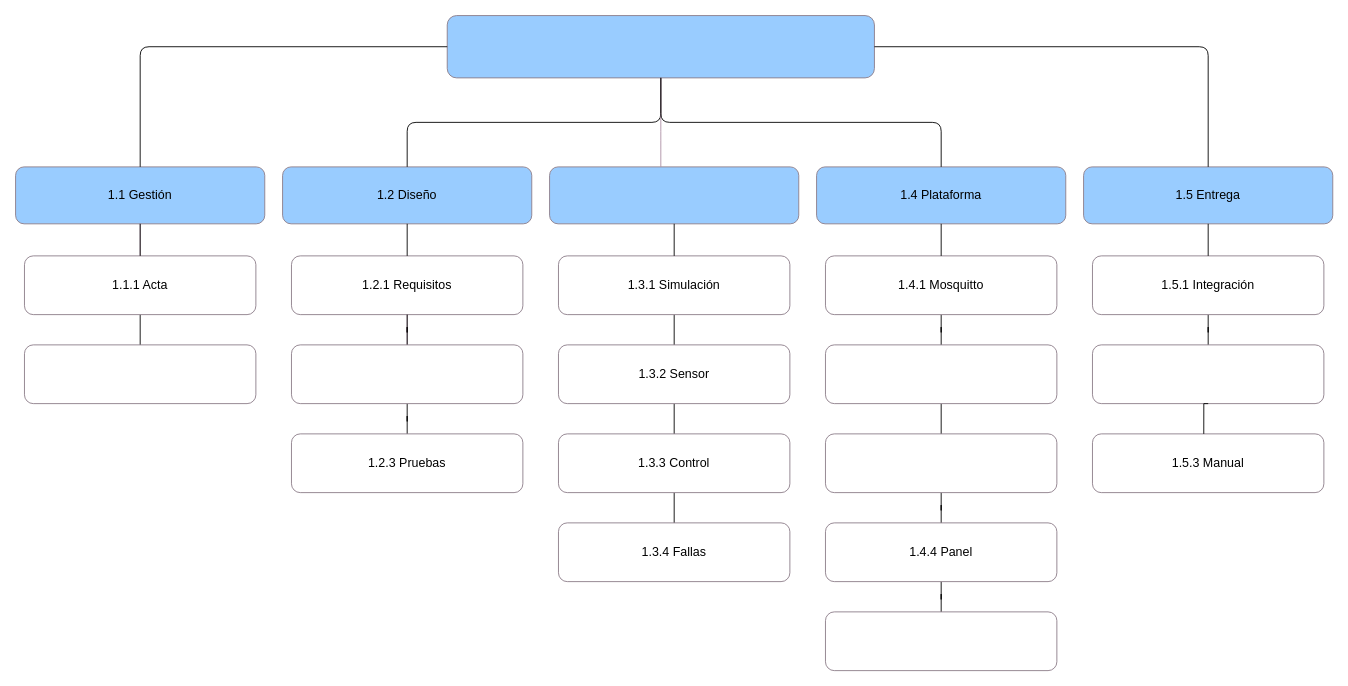
Image size: 1348x686. Some labels were removed from this diagram. The shapes that lost their labels are listed below. From the top down, each one's centre as x and y in pixels, then its label:
At point 660,46: "1.0 Sistema IoT de lavadoras compartidas".
At point 674,195: "1.3 Nodo IoT".
At point 140,374: "1.1.2 Business Case".
At point 407,374: "1.2.2 Arquitectura".
At point 941,374: "1.4.2 API y datos".
At point 1208,374: "1.5.2 Pruebas".
At point 941,463: "1.4.3 Web y pago".
At point 941,641: "1.4.5 Conciliación".
